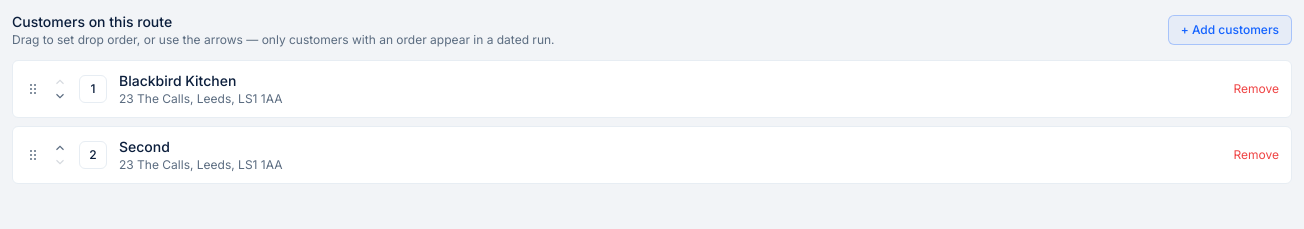
it: RouteCustomerAssignmentPanel › reverts to the previous order when persisting a reorder fails
Click the button named "Move up" in the row of "Second": coordinates (60, 148) [53,141,67,155]
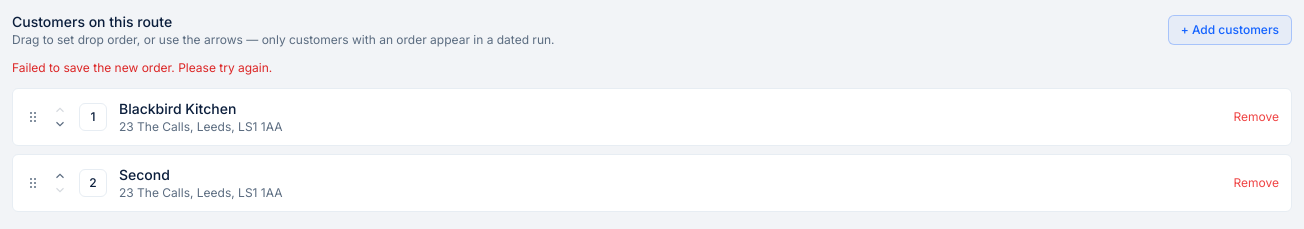
Check: the text "Failed to save the new order. Please try again." is shown, box [12,60,272,75]
